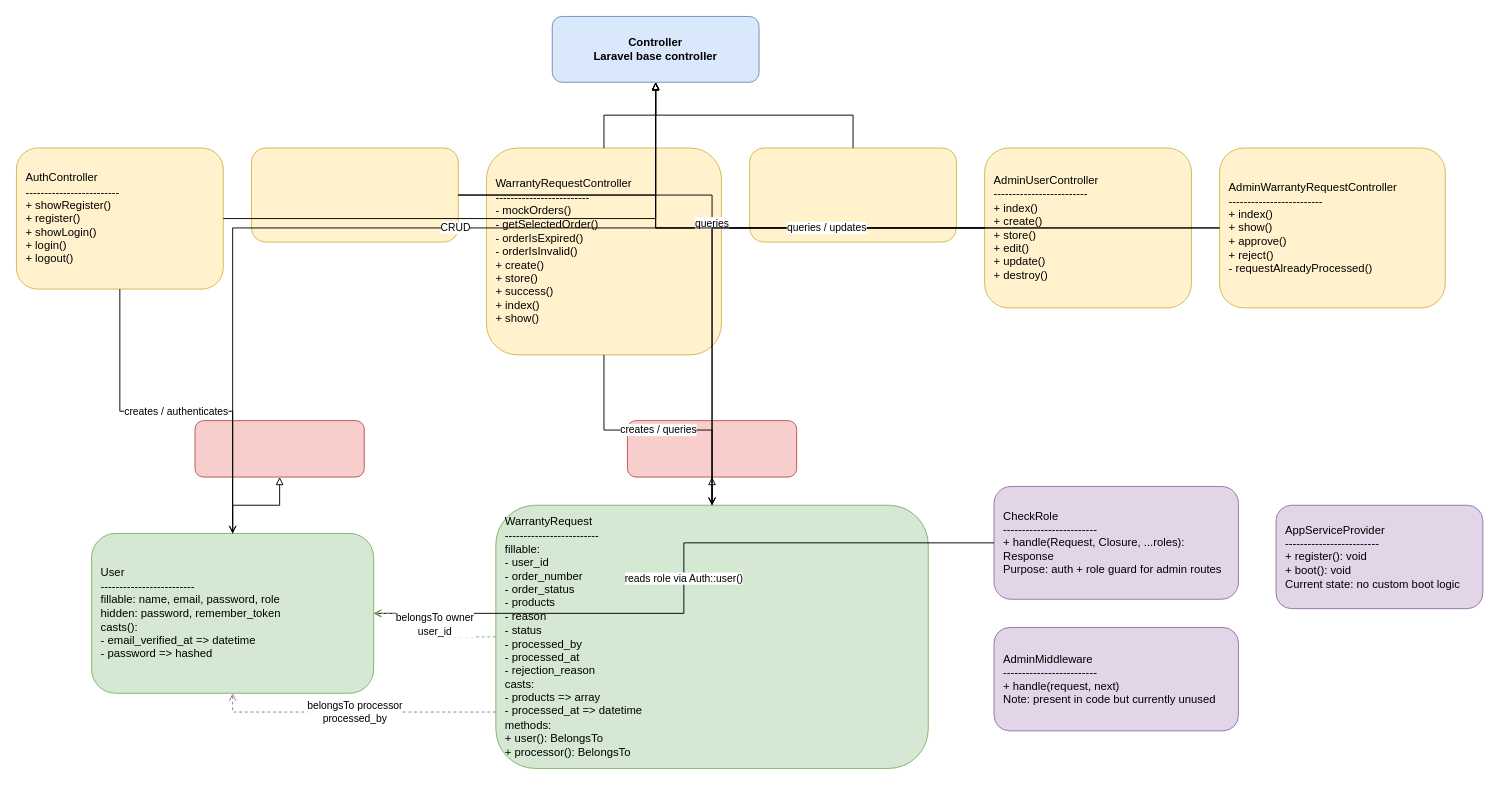
The diagram is 1499 pixels wide and 785 high, and some of its shapes have lost their labels. The shapes that lost their labels are listed below. From the top down, each one's box as (x1, y1, x2, y2) in pixels, then its label:
(251, 147, 458, 242): DashboardController ------------------------- + index()
(749, 147, 956, 242): AdminController ------------------------- + index()
(194, 420, 364, 477): Authenticatable
(627, 420, 797, 477): Model
